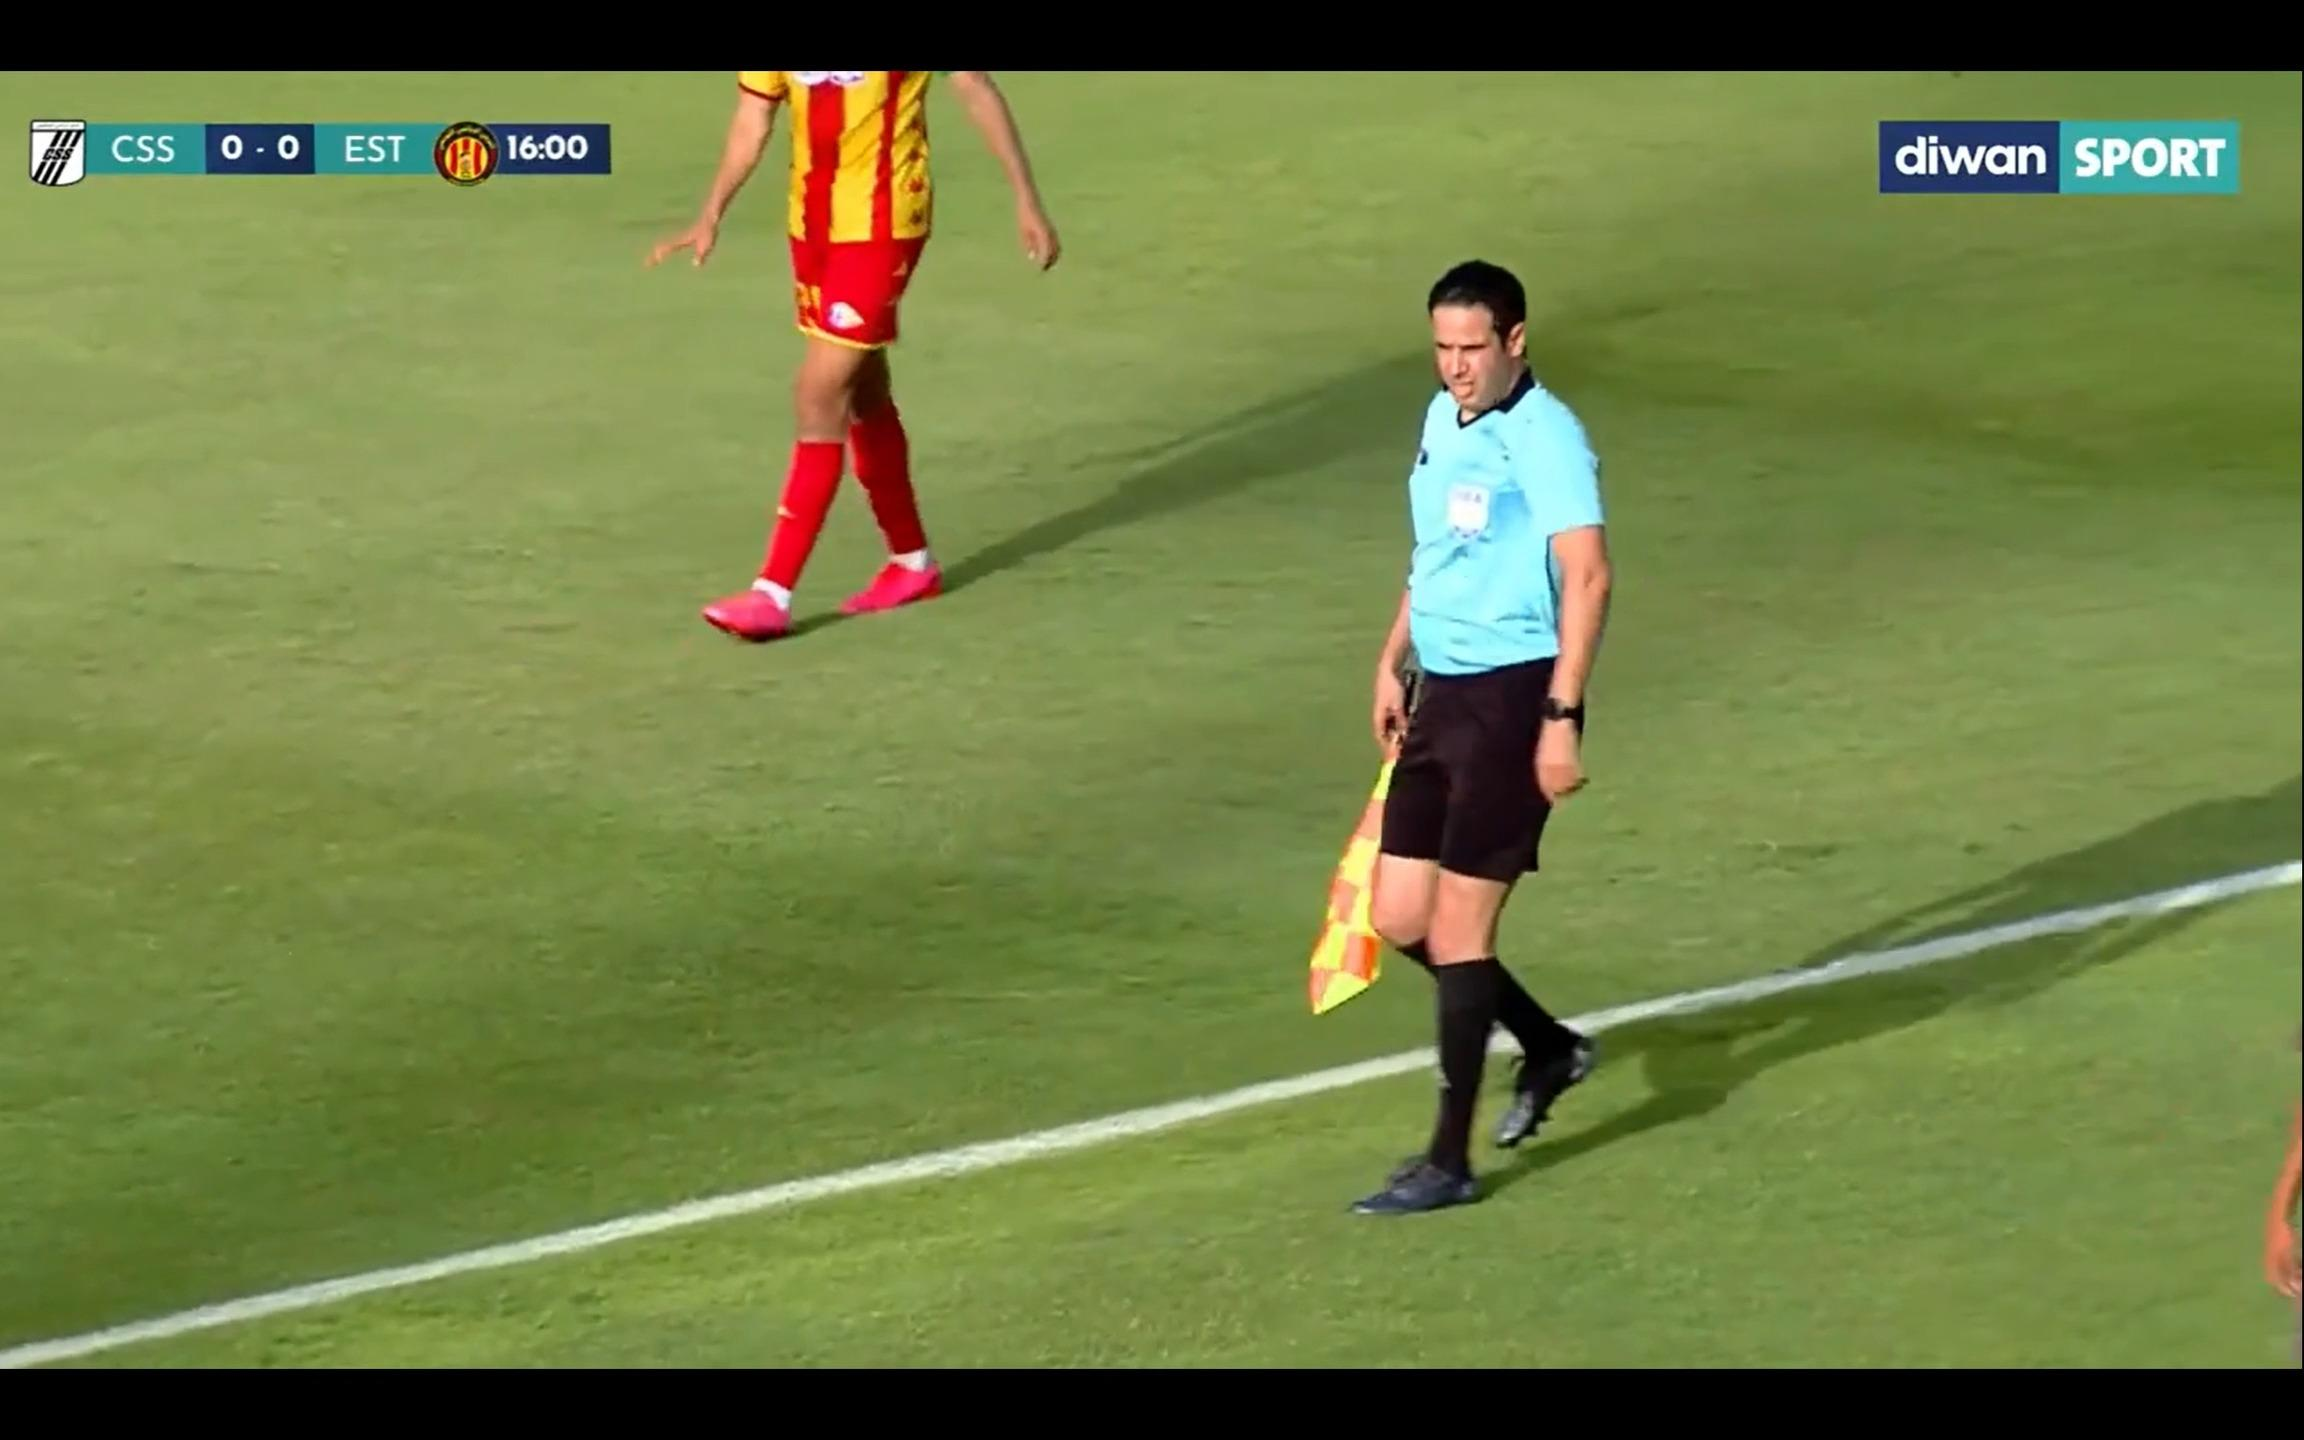referee: (1222, 192, 1755, 1209)
